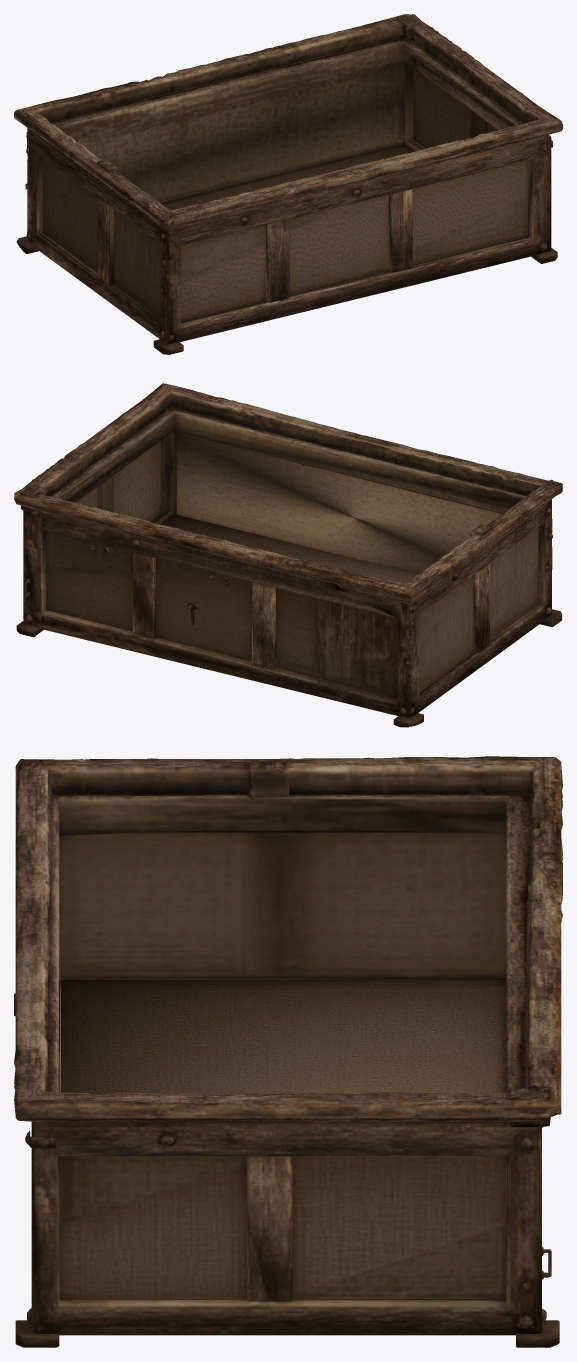
The picture shows the model from 3 angles, top to bottom: view 1: azimuth 30°, elevation 25°; view 2: azimuth 150°, elevation 25°; view 3: azimuth 270°, elevation 25°; orthographic projection. The views are drawn at different scales.
Parts seen in each view (by area): view 1: tripo_node_8c8a2ac6-9133-4af2-8184-00694798e467; view 2: tripo_node_8c8a2ac6-9133-4af2-8184-00694798e467; view 3: tripo_node_8c8a2ac6-9133-4af2-8184-00694798e467.
Boxes of the visible parts, box(x1,y1,x2,y2) form: tripo_node_8c8a2ac6-9133-4af2-8184-00694798e467: box(14, 14, 562, 354); tripo_node_8c8a2ac6-9133-4af2-8184-00694798e467: box(14, 383, 562, 727); tripo_node_8c8a2ac6-9133-4af2-8184-00694798e467: box(14, 756, 562, 1347).
Size of the model in its own units: 0.998 by 0.3301 by 0.6621.
Materials: 1 (1 with a texture image).
